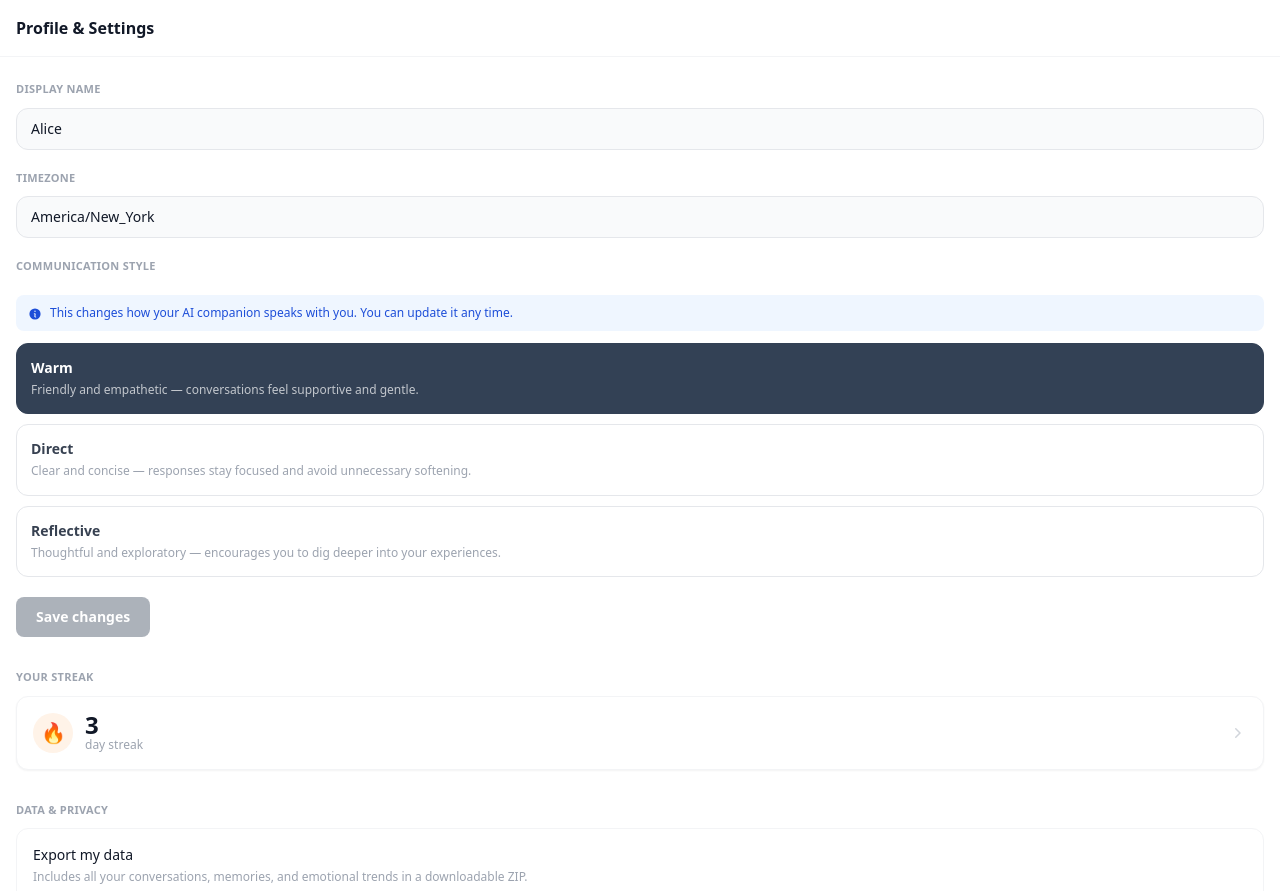
Test: SettingsScreen — save › shows a field-level error when the API returns INVALID_COMM_STYLE
# Change comm style to trigger dirty state
What coordinates should you click on to do the following:
click the radio button labelled "Direct"
I would click on:
 (52, 448)
Its box is 16,424 -> 1264,496.
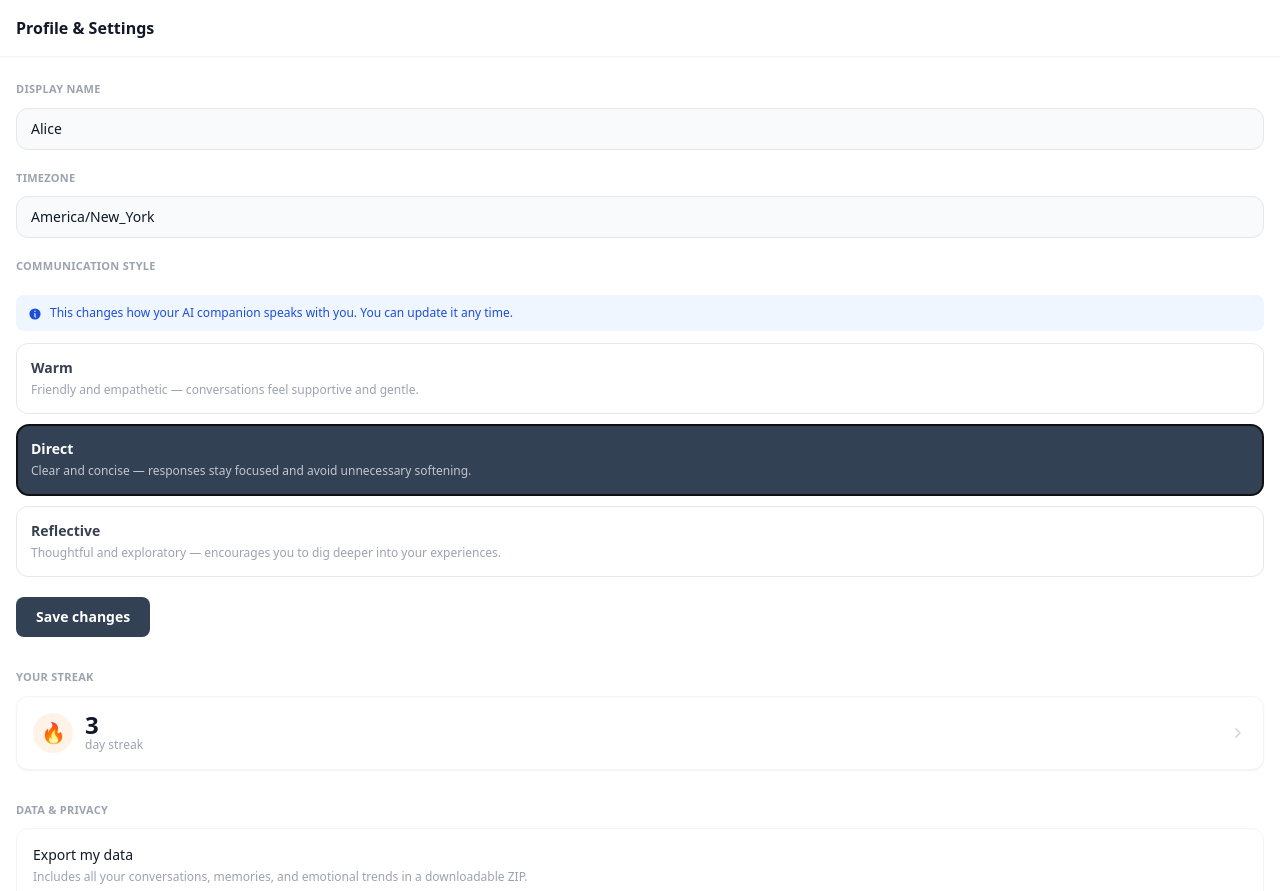
What coordinates should you click on to do the following:
click the button "Save changes"
I would click on:
 (83, 617)
Its box is 16,597 -> 150,637.
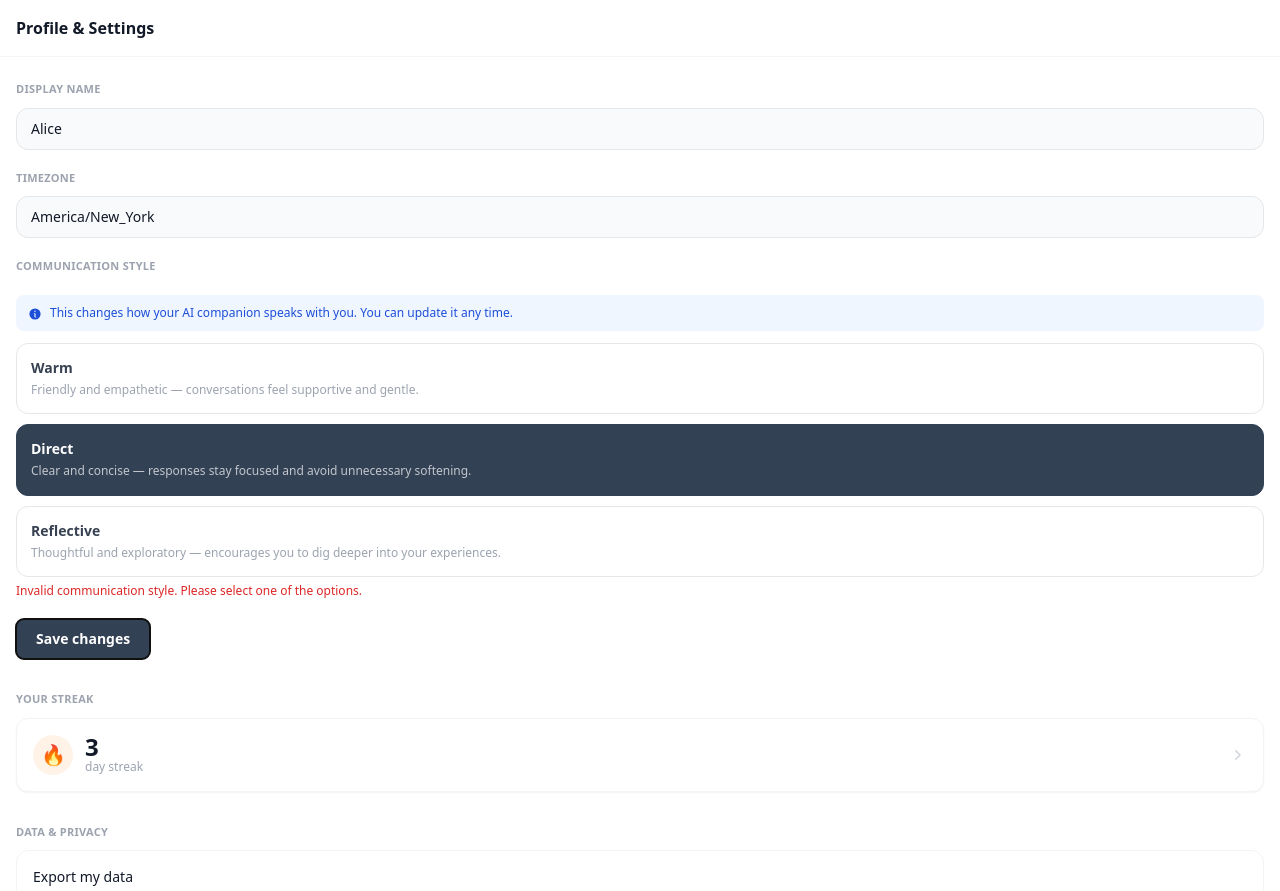
Expected: the message shows "Invalid communication style", 16,582 -> 362,599
